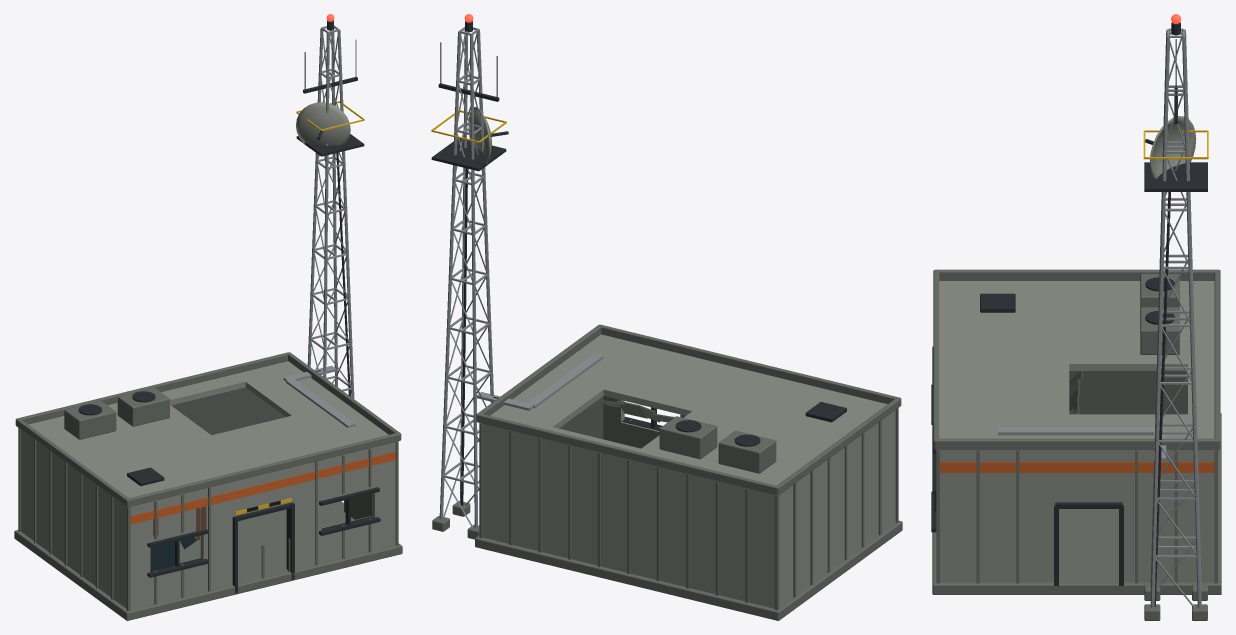
Rendered from site_relay.glb.
3 views of the same model, side by side, from view 1: azimuth 30°, elevation 25°; view 2: azimuth 150°, elevation 25°; view 3: azimuth 270°, elevation 25° (orthographic). The views are drawn at different scales.
Visible parts, largest first — view 1: dish_bowl, ac0, brace0_0, cap, band_e, glass_l; view 2: dish_bowl, ac0, brace0_0, cap, flap0; view 3: dish_bowl, ac0, brace0_0, cap, band_e, flap0, dstripe0.
Part boxes in pixels (bbox=[...]): dish_bowl: bbox=[21, 102, 395, 609]; ac0: bbox=[14, 352, 402, 620]; brace0_0: bbox=[283, 25, 355, 427]; cap: bbox=[78, 20, 380, 593]; band_e: bbox=[130, 451, 395, 524]; glass_l: bbox=[150, 537, 196, 571]; dish_bowl: bbox=[468, 107, 895, 608]; ac0: bbox=[432, 324, 902, 620]; brace0_0: bbox=[439, 26, 603, 528]; cap: bbox=[431, 21, 846, 505]; flap0: bbox=[598, 399, 674, 422]; dish_bowl: bbox=[939, 116, 1214, 582]; ac0: bbox=[932, 269, 1221, 620]; brace0_0: bbox=[998, 28, 1201, 607]; cap: bbox=[931, 22, 1207, 606]; band_e: bbox=[940, 462, 1214, 472]; flap0: bbox=[1069, 371, 1082, 414]; dstripe0: bbox=[1143, 130, 1208, 159].
Size of the model in its own units: 12.15 by 16.58 by 7.33.
